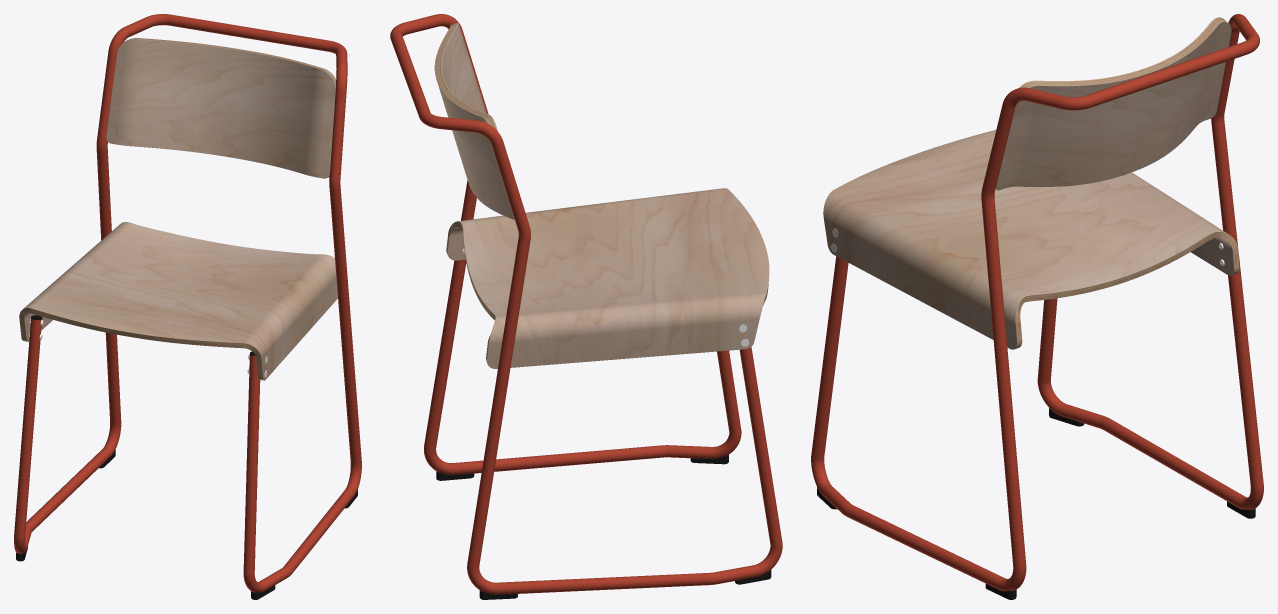
Rendered from CUC_BEECH_CORAL RED with AO CNTR 100DPI NOBUMP.glb.
3 renders of one model, left to right at view 1: azimuth 30°, elevation 25°; view 2: azimuth 150°, elevation 25°; view 3: azimuth 270°, elevation 25°, orthographic. The views are drawn at different scales.
Parts seen in each view (by area): view 1: VGP_CUC_SEAT_RENDER_0_1, VGP_CUC_BACK_RENDER_0, VGP_CUC_FR_RENDER_Default<As Machined>_0, VGP_CUC_SEAT_RENDER_1_0_0, VGP_CUC_BACK_RENDER_1; view 2: VGP_CUC_SEAT_RENDER_0_1, VGP_CUC_FR_RENDER_Default<As Machined>_0, VGP_CUC_BACK_RENDER_0, VGP_CUC_BACK_RENDER_1; view 3: VGP_CUC_SEAT_RENDER_0_1, VGP_CUC_FR_RENDER_Default<As Machined>_0, VGP_CUC_BACK_RENDER_0, VGP_CUC_SEAT_RENDER_1_0_1, VGP_CUC_BACK_RENDER_1, VGP_CUC_SEAT_RENDER_0_0.
Boxes of the visible parts, <box> form: VGP_CUC_SEAT_RENDER_0_1: <box>19,222,337,380</box>; VGP_CUC_BACK_RENDER_0: <box>106,39,335,178</box>; VGP_CUC_FR_RENDER_Default<As Machined>_0: <box>14,14,361,592</box>; VGP_CUC_SEAT_RENDER_1_0_0: <box>19,309,263,380</box>; VGP_CUC_BACK_RENDER_1: <box>130,38,335,177</box>; VGP_CUC_SEAT_RENDER_0_1: <box>452,188,769,368</box>; VGP_CUC_FR_RENDER_Default<As Machined>_0: <box>390,14,782,594</box>; VGP_CUC_BACK_RENDER_0: <box>434,22,514,219</box>; VGP_CUC_BACK_RENDER_1: <box>435,22,497,130</box>; VGP_CUC_SEAT_RENDER_0_1: <box>823,130,1239,349</box>; VGP_CUC_FR_RENDER_Default<As Machined>_0: <box>811,14,1263,591</box>; VGP_CUC_BACK_RENDER_0: <box>996,18,1231,190</box>; VGP_CUC_SEAT_RENDER_1_0_1: <box>1016,232,1239,343</box>; VGP_CUC_BACK_RENDER_1: <box>995,17,1227,188</box>; VGP_CUC_SEAT_RENDER_0_0: <box>1021,237,1234,339</box>.
Size of the model in its own units: 0.672 by 0.808 by 0.654.
27 materials, 9 textured.
